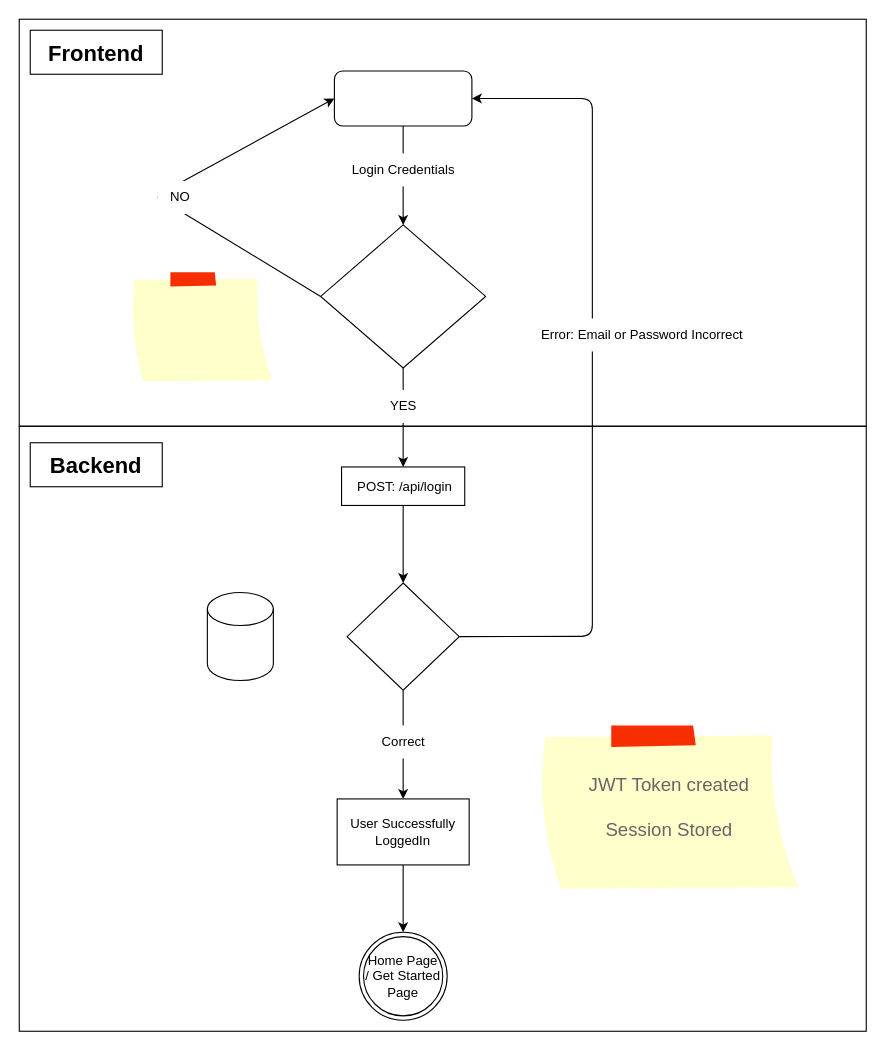
The diagram is 886 pixels wide and 1051 high, and some of its shapes have lost their labels. Each missing label, with the box of its shape:
Email: @, DNS Password: Both Cases, Spl Char, Numbers: (129, 271, 273, 382)
Login Form (FE): (333, 70, 472, 126)
USER: (206, 591, 273, 681)
Validate Email & Password Format: (320, 224, 486, 368)
Verify Email & Password: (346, 582, 459, 690)
